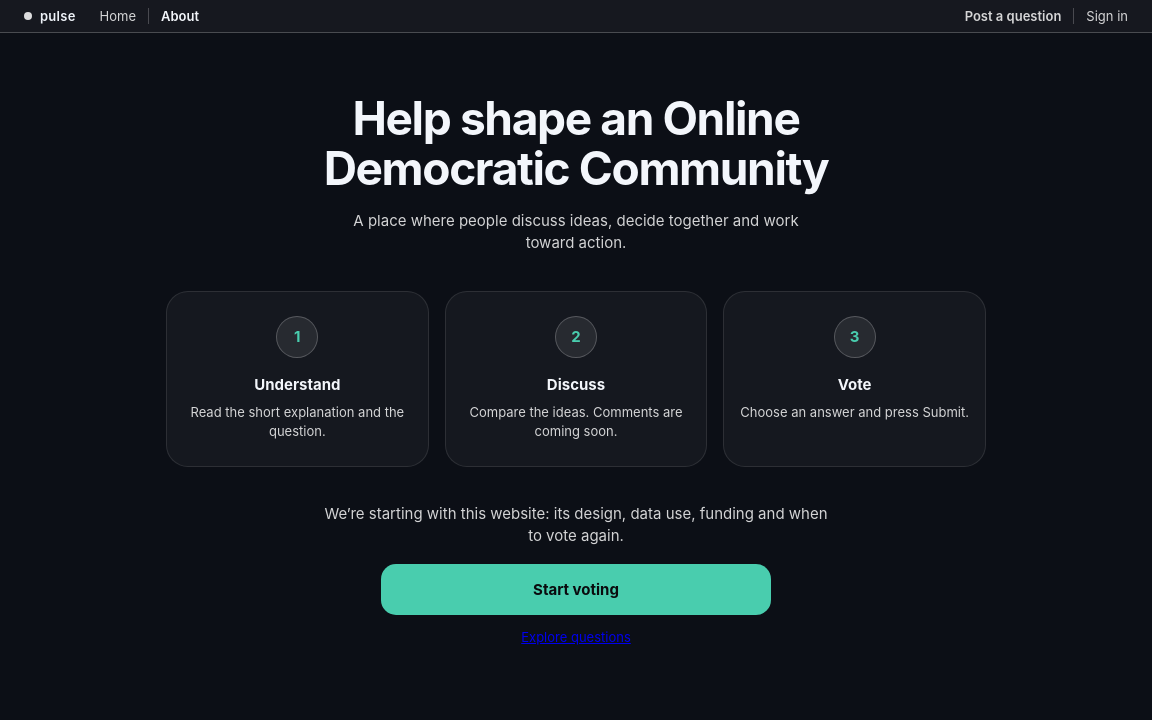
Scenario: keeps the introduction useful when polls are not yet published or configured
Click the button "Start voting" at (576, 589), box [381, 564, 771, 615]
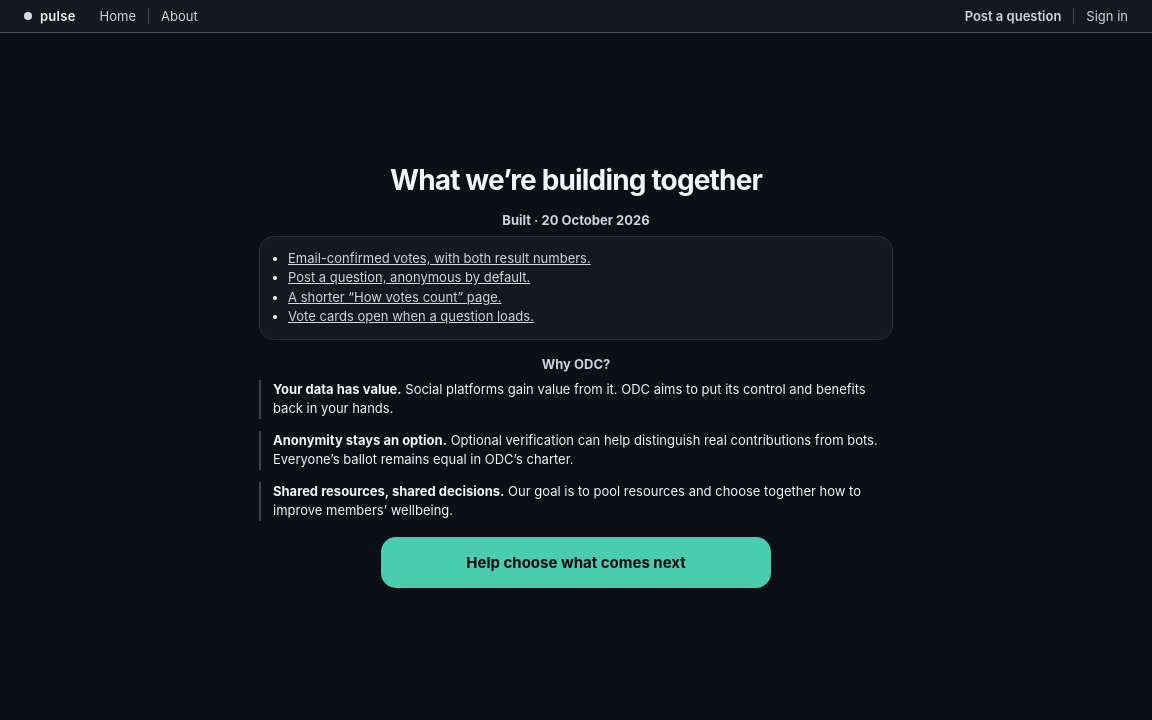
Click the button "Help choose what comes next" at (576, 562), box [381, 537, 771, 588]
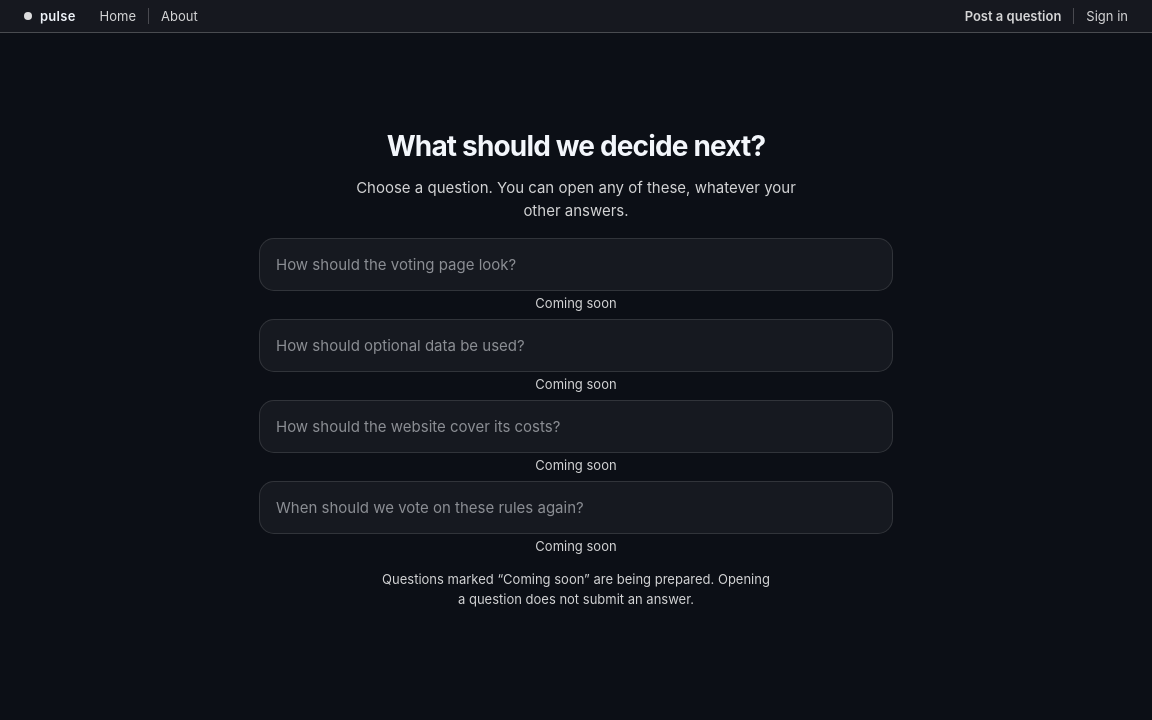
Result: the text "Questions marked “Coming soon”" is shown at [382, 571, 718, 587]
